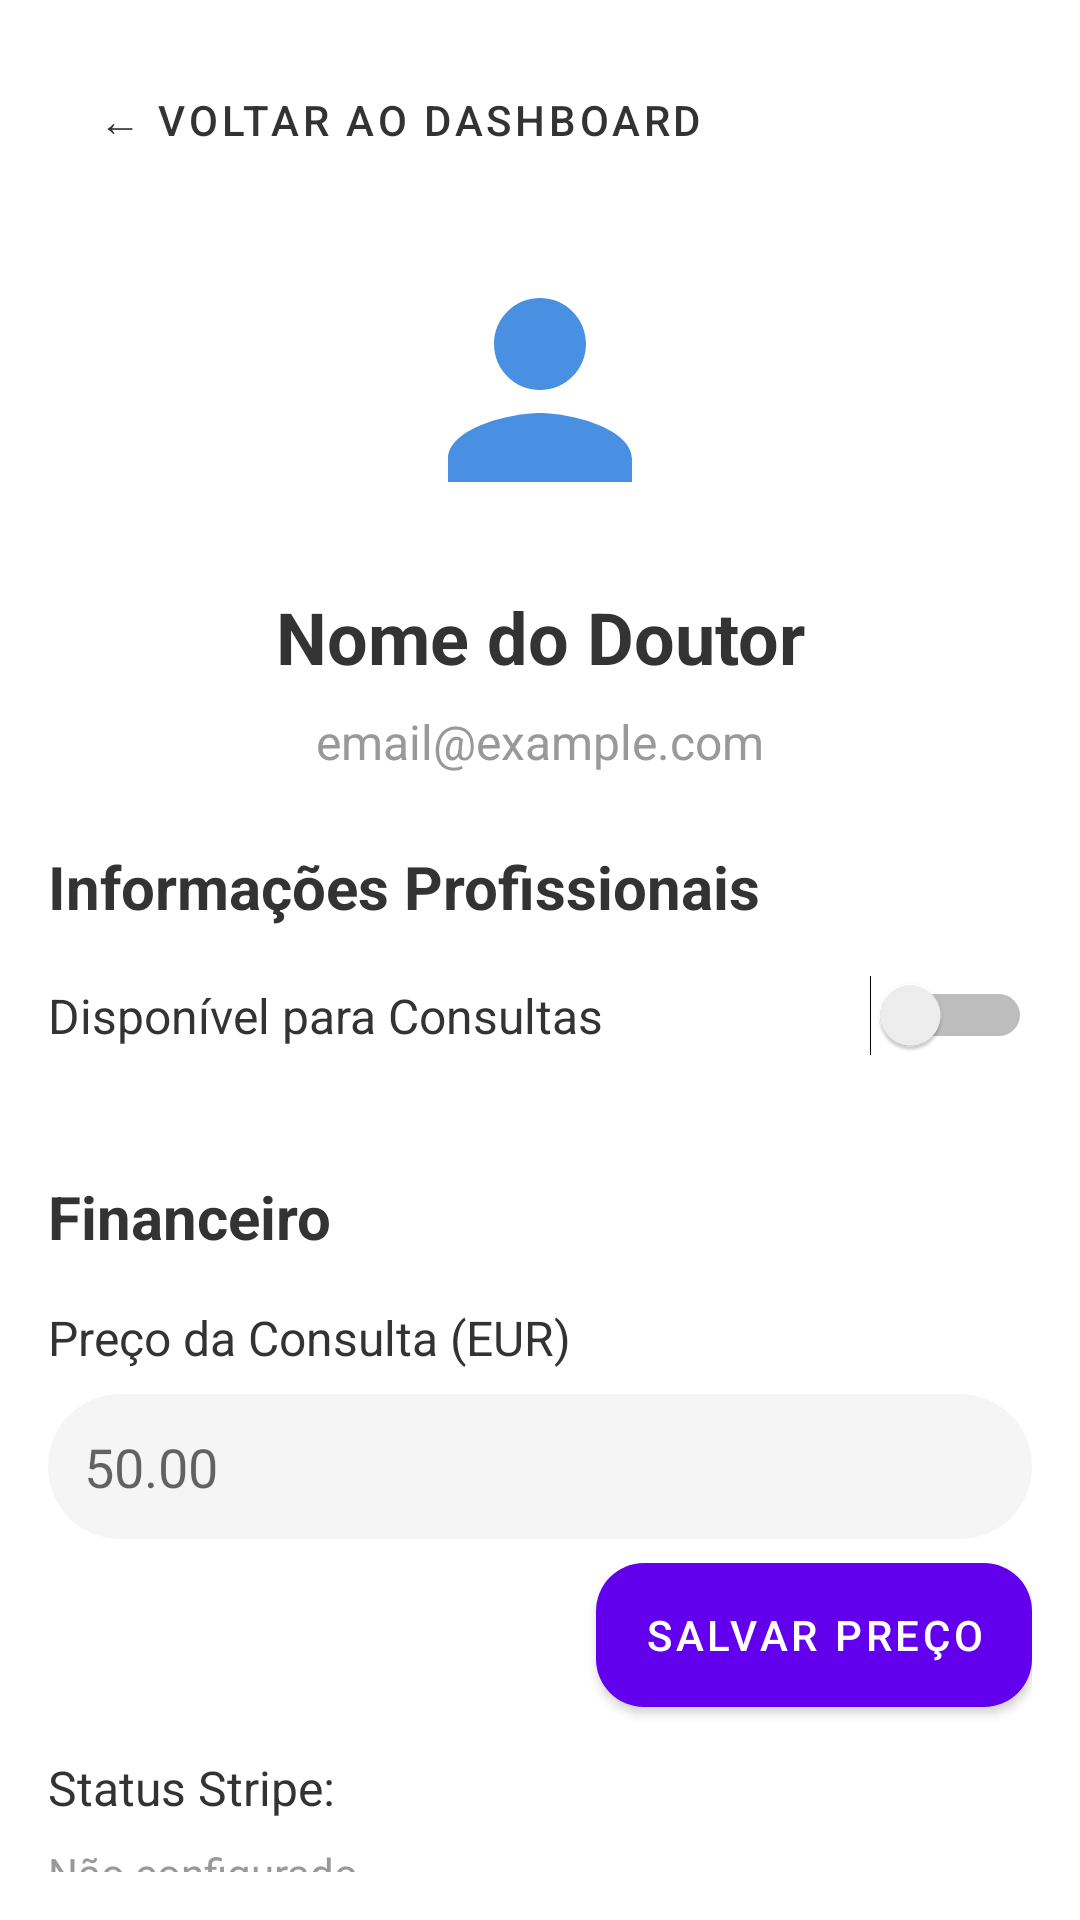

Where to tap for icons on this 1080 x 1920 app screen, as [x,y]:
Foto do perfil: [540,390]
